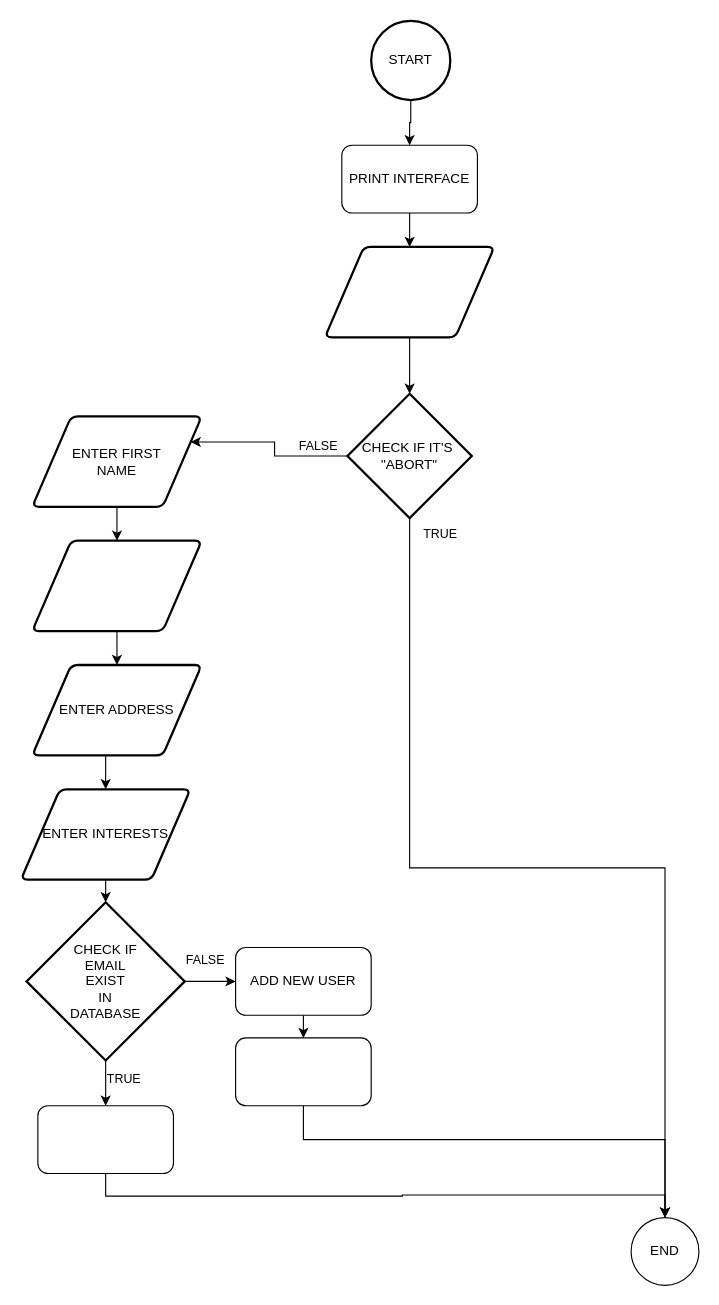
This 719x1305 diagram has some shape labels left out. Each missing label, with the centre of its shape:
"ENTER EMAIL OR ABORT OPERATION" goes at point 409,291.
"ENTER LAST NAME" goes at point 116,585.
"PRINT ERROR" goes at point 105,1139.
"PRINT SUCCESS" goes at point 302,1071.
